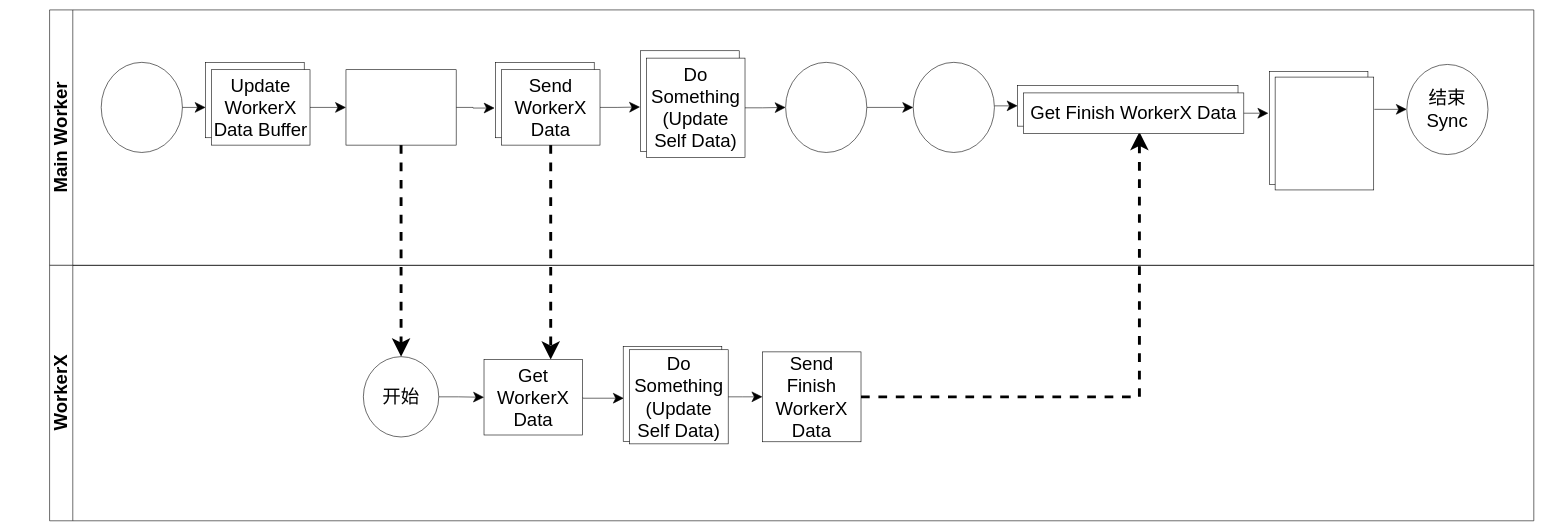
Image size: 1544x531. Some labels were removed from this diagram. The shapes that lost their labels are listed below. From the top down, each one's centre as x and y in pixels, then its label:
At point (141, 107): "开始 Update".
At point (400, 107): "Send Begin Loop Data".
At point (826, 107): "结束 Update".
At point (953, 107): "开始 Sync".
At point (1324, 133): "Update Shared Data".
